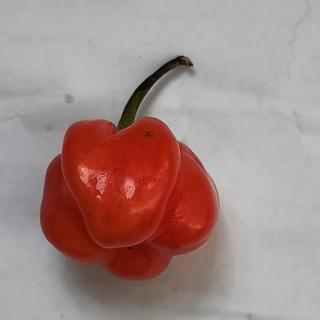Grade-B: (32, 110, 222, 284)
